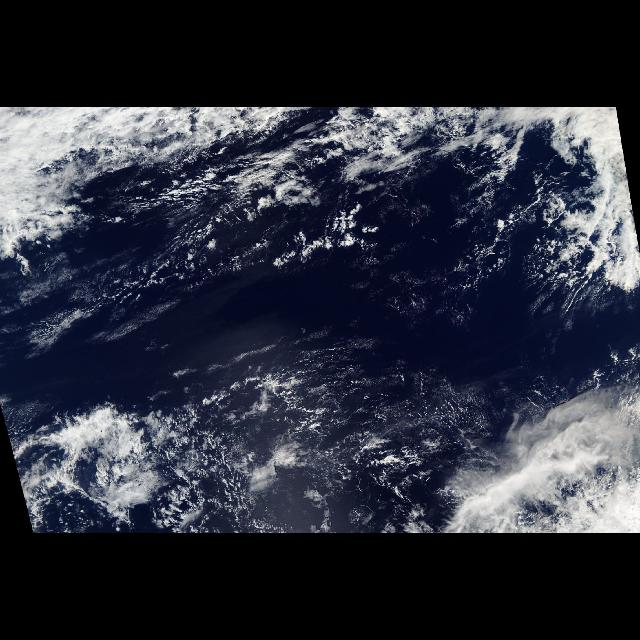Gravel: (218, 343, 500, 485)
